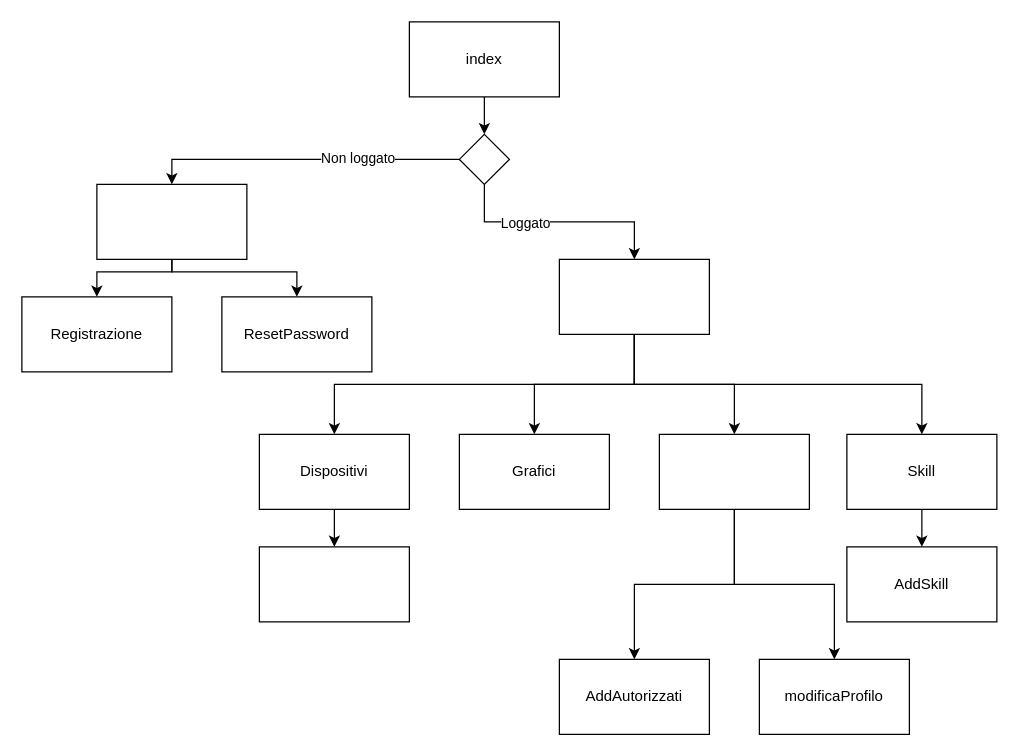
Some shapes in this 1019 by 756 pixel diagram are drawn without their labels. Each missing label, with the centre of its shape:
"AddDispositivo" goes at [333,584].
"Home" goes at [633,296].
"Login" goes at [171,221].
"Profilo" goes at [733,471].
